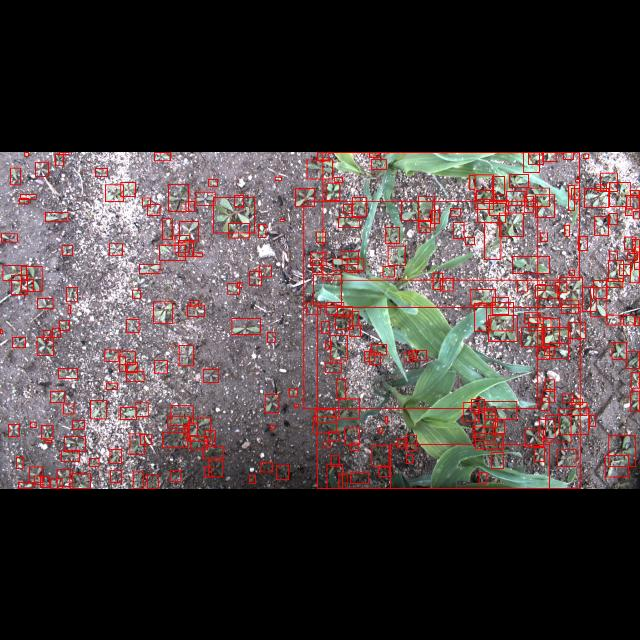crop: (304, 200, 538, 408), (318, 306, 580, 488), (322, 151, 580, 279), (390, 444, 550, 488), (328, 464, 342, 488)
weed: (213, 196, 254, 232), (313, 273, 341, 305), (608, 436, 636, 466), (559, 408, 589, 434), (488, 315, 518, 341), (474, 174, 494, 208), (559, 276, 583, 304), (546, 414, 570, 442), (491, 302, 514, 331), (474, 410, 496, 440), (484, 222, 502, 258), (512, 255, 550, 272), (402, 200, 432, 220), (499, 212, 523, 236), (484, 401, 516, 419), (477, 202, 505, 222), (168, 183, 188, 210), (605, 455, 629, 477), (307, 158, 333, 178), (418, 195, 434, 227), (542, 318, 560, 346), (22, 266, 42, 290), (610, 182, 630, 206), (330, 334, 348, 360), (584, 188, 610, 206), (526, 187, 550, 206), (232, 318, 260, 334), (590, 288, 606, 316), (190, 418, 210, 440), (171, 405, 193, 425), (338, 398, 359, 418), (159, 244, 185, 260), (544, 327, 570, 343), (162, 432, 188, 448), (522, 326, 542, 346), (536, 194, 554, 216), (475, 434, 503, 448), (3, 264, 27, 280), (332, 258, 363, 270), (470, 290, 496, 304), (180, 221, 198, 241), (154, 302, 172, 322), (64, 436, 86, 452), (228, 222, 250, 238), (314, 417, 336, 433), (556, 449, 576, 466), (534, 284, 558, 298), (582, 286, 596, 310), (474, 302, 486, 330), (36, 337, 54, 355), (296, 188, 314, 206), (600, 172, 618, 190), (525, 429, 543, 447), (11, 274, 27, 294), (178, 345, 194, 365), (539, 418, 555, 438), (372, 446, 388, 466), (608, 260, 624, 280), (388, 245, 404, 265), (523, 151, 539, 171), (463, 402, 479, 422), (105, 183, 123, 200), (90, 399, 106, 418), (174, 234, 190, 252), (568, 322, 586, 338), (492, 296, 508, 314), (70, 474, 90, 488), (130, 434, 144, 454), (506, 190, 526, 204), (315, 408, 335, 422), (56, 469, 72, 486), (208, 459, 224, 476), (352, 197, 366, 216), (489, 200, 508, 214), (202, 446, 224, 458), (168, 416, 190, 428), (529, 318, 551, 330), (178, 240, 194, 256), (344, 428, 360, 444), (336, 314, 352, 330), (196, 191, 214, 205), (190, 436, 208, 450), (326, 182, 340, 200), (595, 216, 609, 234), (593, 280, 607, 298), (550, 344, 568, 358), (44, 211, 68, 221), (266, 393, 278, 412), (492, 174, 504, 193), (509, 174, 528, 186), (120, 182, 136, 196), (342, 250, 358, 264), (562, 299, 578, 313), (386, 226, 400, 242), (612, 342, 626, 358), (626, 352, 640, 368), (338, 217, 360, 227), (61, 450, 79, 462), (326, 302, 344, 314), (630, 391, 640, 412), (188, 304, 205, 316), (58, 368, 78, 378), (162, 218, 172, 238), (140, 263, 160, 273), (336, 378, 346, 398), (630, 262, 640, 282), (126, 318, 140, 332), (204, 368, 218, 382), (626, 194, 640, 208), (572, 402, 586, 416), (30, 466, 42, 482), (66, 286, 78, 302), (110, 448, 122, 464), (120, 407, 136, 419), (132, 472, 144, 488), (310, 252, 326, 264), (276, 464, 288, 480), (528, 151, 544, 163), (492, 452, 504, 468), (36, 161, 49, 175), (120, 351, 134, 364), (10, 166, 20, 184), (126, 371, 144, 381), (324, 362, 342, 372), (350, 472, 368, 482), (476, 189, 494, 199), (104, 349, 118, 361), (136, 402, 148, 416), (146, 474, 158, 488), (154, 360, 168, 372), (204, 430, 216, 444), (249, 271, 261, 285), (306, 301, 320, 313), (542, 388, 554, 402), (472, 398, 484, 412), (37, 298, 53, 308), (524, 195, 534, 211), (454, 222, 464, 238), (630, 372, 640, 388), (524, 312, 540, 322), (433, 273, 443, 289), (406, 434, 416, 450), (349, 310, 359, 326), (370, 158, 386, 168), (568, 184, 574, 210), (441, 278, 454, 290), (50, 391, 64, 402), (347, 258, 358, 272), (21, 279, 33, 291), (8, 424, 20, 436), (110, 470, 122, 482), (624, 236, 636, 248), (619, 263, 631, 275), (485, 415, 497, 427), (12, 337, 26, 347), (187, 422, 197, 436), (578, 235, 588, 249), (534, 446, 544, 460), (430, 209, 440, 223), (606, 314, 620, 324), (536, 348, 550, 358), (372, 344, 386, 354), (542, 151, 556, 161), (338, 306, 352, 316), (110, 243, 122, 254), (148, 203, 160, 214), (418, 220, 429, 232), (472, 427, 484, 438), (634, 246, 640, 268), (2, 233, 18, 241), (155, 152, 171, 160), (607, 278, 623, 286), (42, 426, 52, 438), (140, 434, 152, 444), (228, 283, 240, 293), (259, 266, 271, 276), (312, 259, 322, 271), (260, 462, 272, 472), (608, 212, 618, 224), (518, 279, 528, 291), (383, 266, 395, 276), (350, 324, 360, 336), (370, 352, 380, 364), (414, 350, 426, 360), (494, 422, 504, 434), (541, 396, 549, 410), (339, 474, 347, 488), (632, 238, 640, 252), (40, 477, 50, 488), (50, 478, 61, 488), (170, 471, 180, 482), (378, 466, 389, 476), (365, 351, 375, 362), (72, 419, 84, 428), (234, 194, 243, 206), (562, 393, 574, 402), (54, 154, 64, 164), (64, 403, 74, 413), (59, 320, 69, 330), (62, 245, 72, 255), (127, 362, 137, 372), (316, 231, 326, 241), (556, 282, 566, 292), (545, 380, 555, 390), (397, 438, 407, 448), (624, 315, 634, 325), (328, 432, 339, 441), (95, 167, 107, 175), (119, 355, 125, 371), (106, 382, 118, 390), (258, 224, 266, 236), (317, 152, 329, 160), (321, 321, 329, 333), (331, 454, 339, 466), (571, 187, 579, 199), (89, 458, 99, 467), (16, 457, 24, 468), (479, 472, 487, 483), (18, 482, 32, 488), (52, 327, 60, 337), (186, 201, 194, 211), (204, 467, 212, 477), (267, 332, 275, 342), (208, 178, 218, 186), (288, 388, 298, 396), (610, 250, 618, 260), (627, 252, 637, 260), (544, 346, 554, 354), (404, 351, 412, 361), (450, 207, 460, 215), (184, 426, 190, 438), (590, 414, 596, 426), (564, 224, 570, 236), (630, 190, 640, 197), (20, 194, 36, 198), (34, 476, 42, 484), (142, 197, 150, 205), (133, 289, 141, 297), (343, 204, 351, 212), (540, 232, 548, 240), (350, 442, 358, 450), (409, 350, 417, 358), (466, 236, 474, 244), (19, 197, 29, 203), (44, 330, 50, 340), (596, 184, 606, 190), (563, 152, 573, 158), (572, 398, 582, 404), (470, 174, 474, 188), (190, 300, 198, 306), (335, 176, 343, 182), (249, 475, 255, 483), (538, 284, 546, 290), (406, 455, 412, 463), (633, 210, 639, 218), (626, 206, 632, 214), (193, 252, 203, 256), (369, 152, 379, 156), (325, 342, 331, 348), (324, 442, 330, 448), (274, 176, 282, 180), (635, 317, 639, 325), (30, 422, 36, 426), (236, 282, 242, 286), (584, 152, 588, 158), (570, 269, 574, 275), (59, 151, 69, 153), (24, 151, 28, 155), (68, 305, 70, 313), (294, 403, 298, 407), (270, 425, 274, 429), (386, 416, 388, 424), (575, 178, 579, 182), (45, 440, 51, 442), (380, 427, 382, 433), (0, 329, 2, 333), (280, 218, 284, 220)
